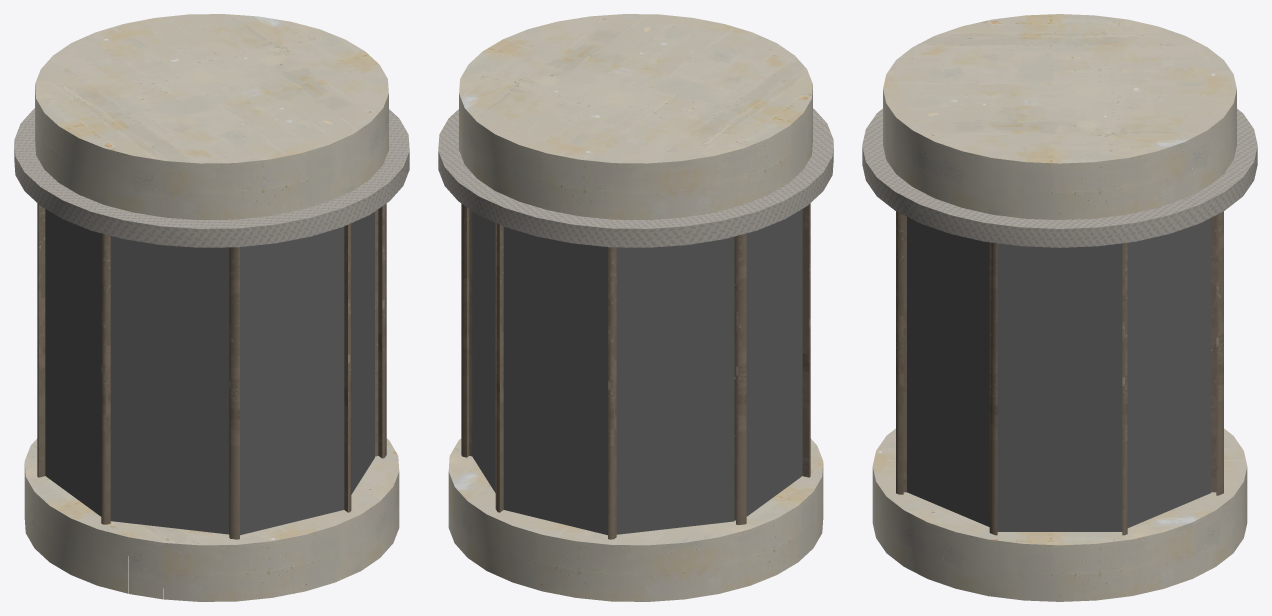
3 views of the same model, side by side, from view 1: azimuth 30°, elevation 25°; view 2: azimuth 150°, elevation 25°; view 3: azimuth 270°, elevation 25° (orthographic).
Visible parts, largest first — view 1: body0_model0_lod0_mesh0, body0_model0_lod0_mesh3, body0_model0_lod0_mesh1, body0_model0_lod0_mesh2; view 2: body0_model0_lod0_mesh0, body0_model0_lod0_mesh3, body0_model0_lod0_mesh2, body0_model0_lod0_mesh1; view 3: body0_model0_lod0_mesh0, body0_model0_lod0_mesh3, body0_model0_lod0_mesh1, body0_model0_lod0_mesh2.
Part boxes in pixels (x1=…): body0_model0_lod0_mesh0: x1=24, y1=14, x2=399, y2=601; body0_model0_lod0_mesh3: x1=45, y1=209, x2=374, y2=535; body0_model0_lod0_mesh1: x1=14, y1=108, x2=409, y2=247; body0_model0_lod0_mesh2: x1=37, y1=203, x2=386, y2=539; body0_model0_lod0_mesh0: x1=448, y1=14, x2=823, y2=601; body0_model0_lod0_mesh3: x1=472, y1=209, x2=802, y2=535; body0_model0_lod0_mesh2: x1=461, y1=203, x2=810, y2=539; body0_model0_lod0_mesh1: x1=438, y1=108, x2=833, y2=247; body0_model0_lod0_mesh0: x1=872, y1=14, x2=1247, y2=601; body0_model0_lod0_mesh3: x1=907, y1=217, x2=1210, y2=531; body0_model0_lod0_mesh1: x1=862, y1=109, x2=1257, y2=247; body0_model0_lod0_mesh2: x1=896, y1=211, x2=1223, y2=535.
Size of the model in its own units: 19 by 23 by 19.
Materials: 5 (4 with a texture image).
